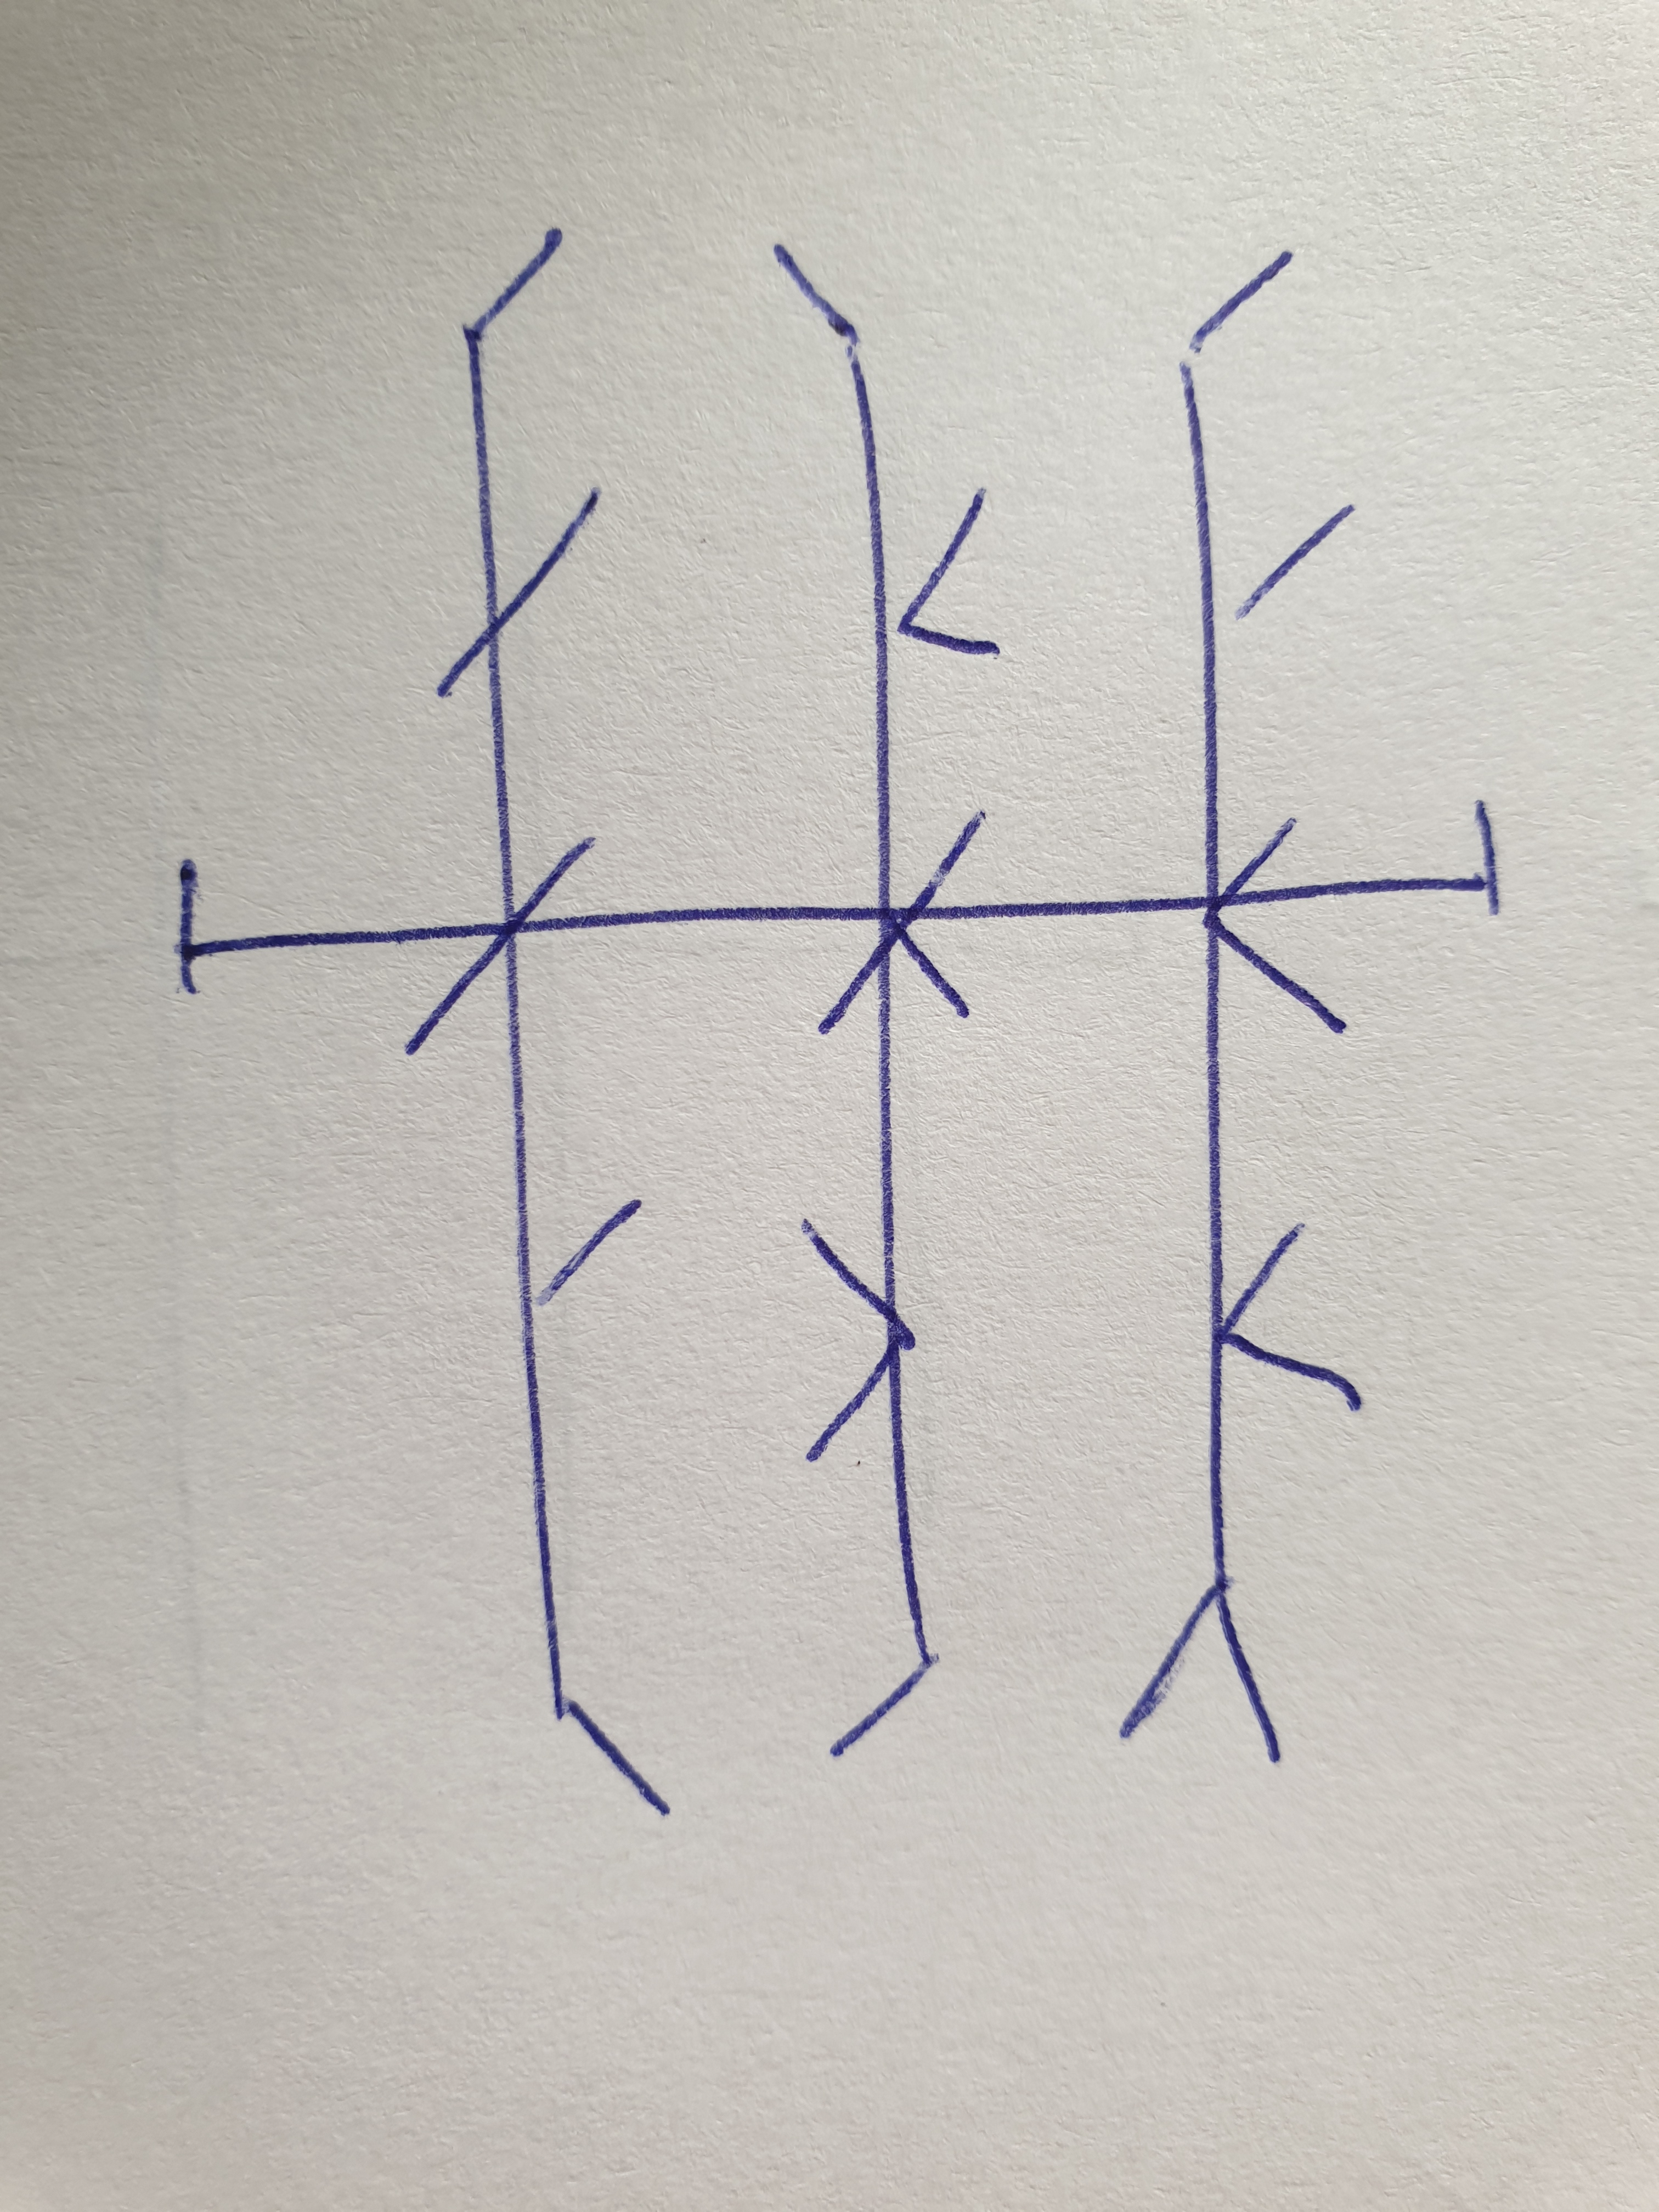Bar: (403, 225, 674, 1818), (1119, 246, 1363, 1766), (770, 244, 1004, 1752)
Barcode: (176, 221, 1504, 1817)
End: (1298, 803, 1506, 921)
Start: (174, 855, 444, 996)
